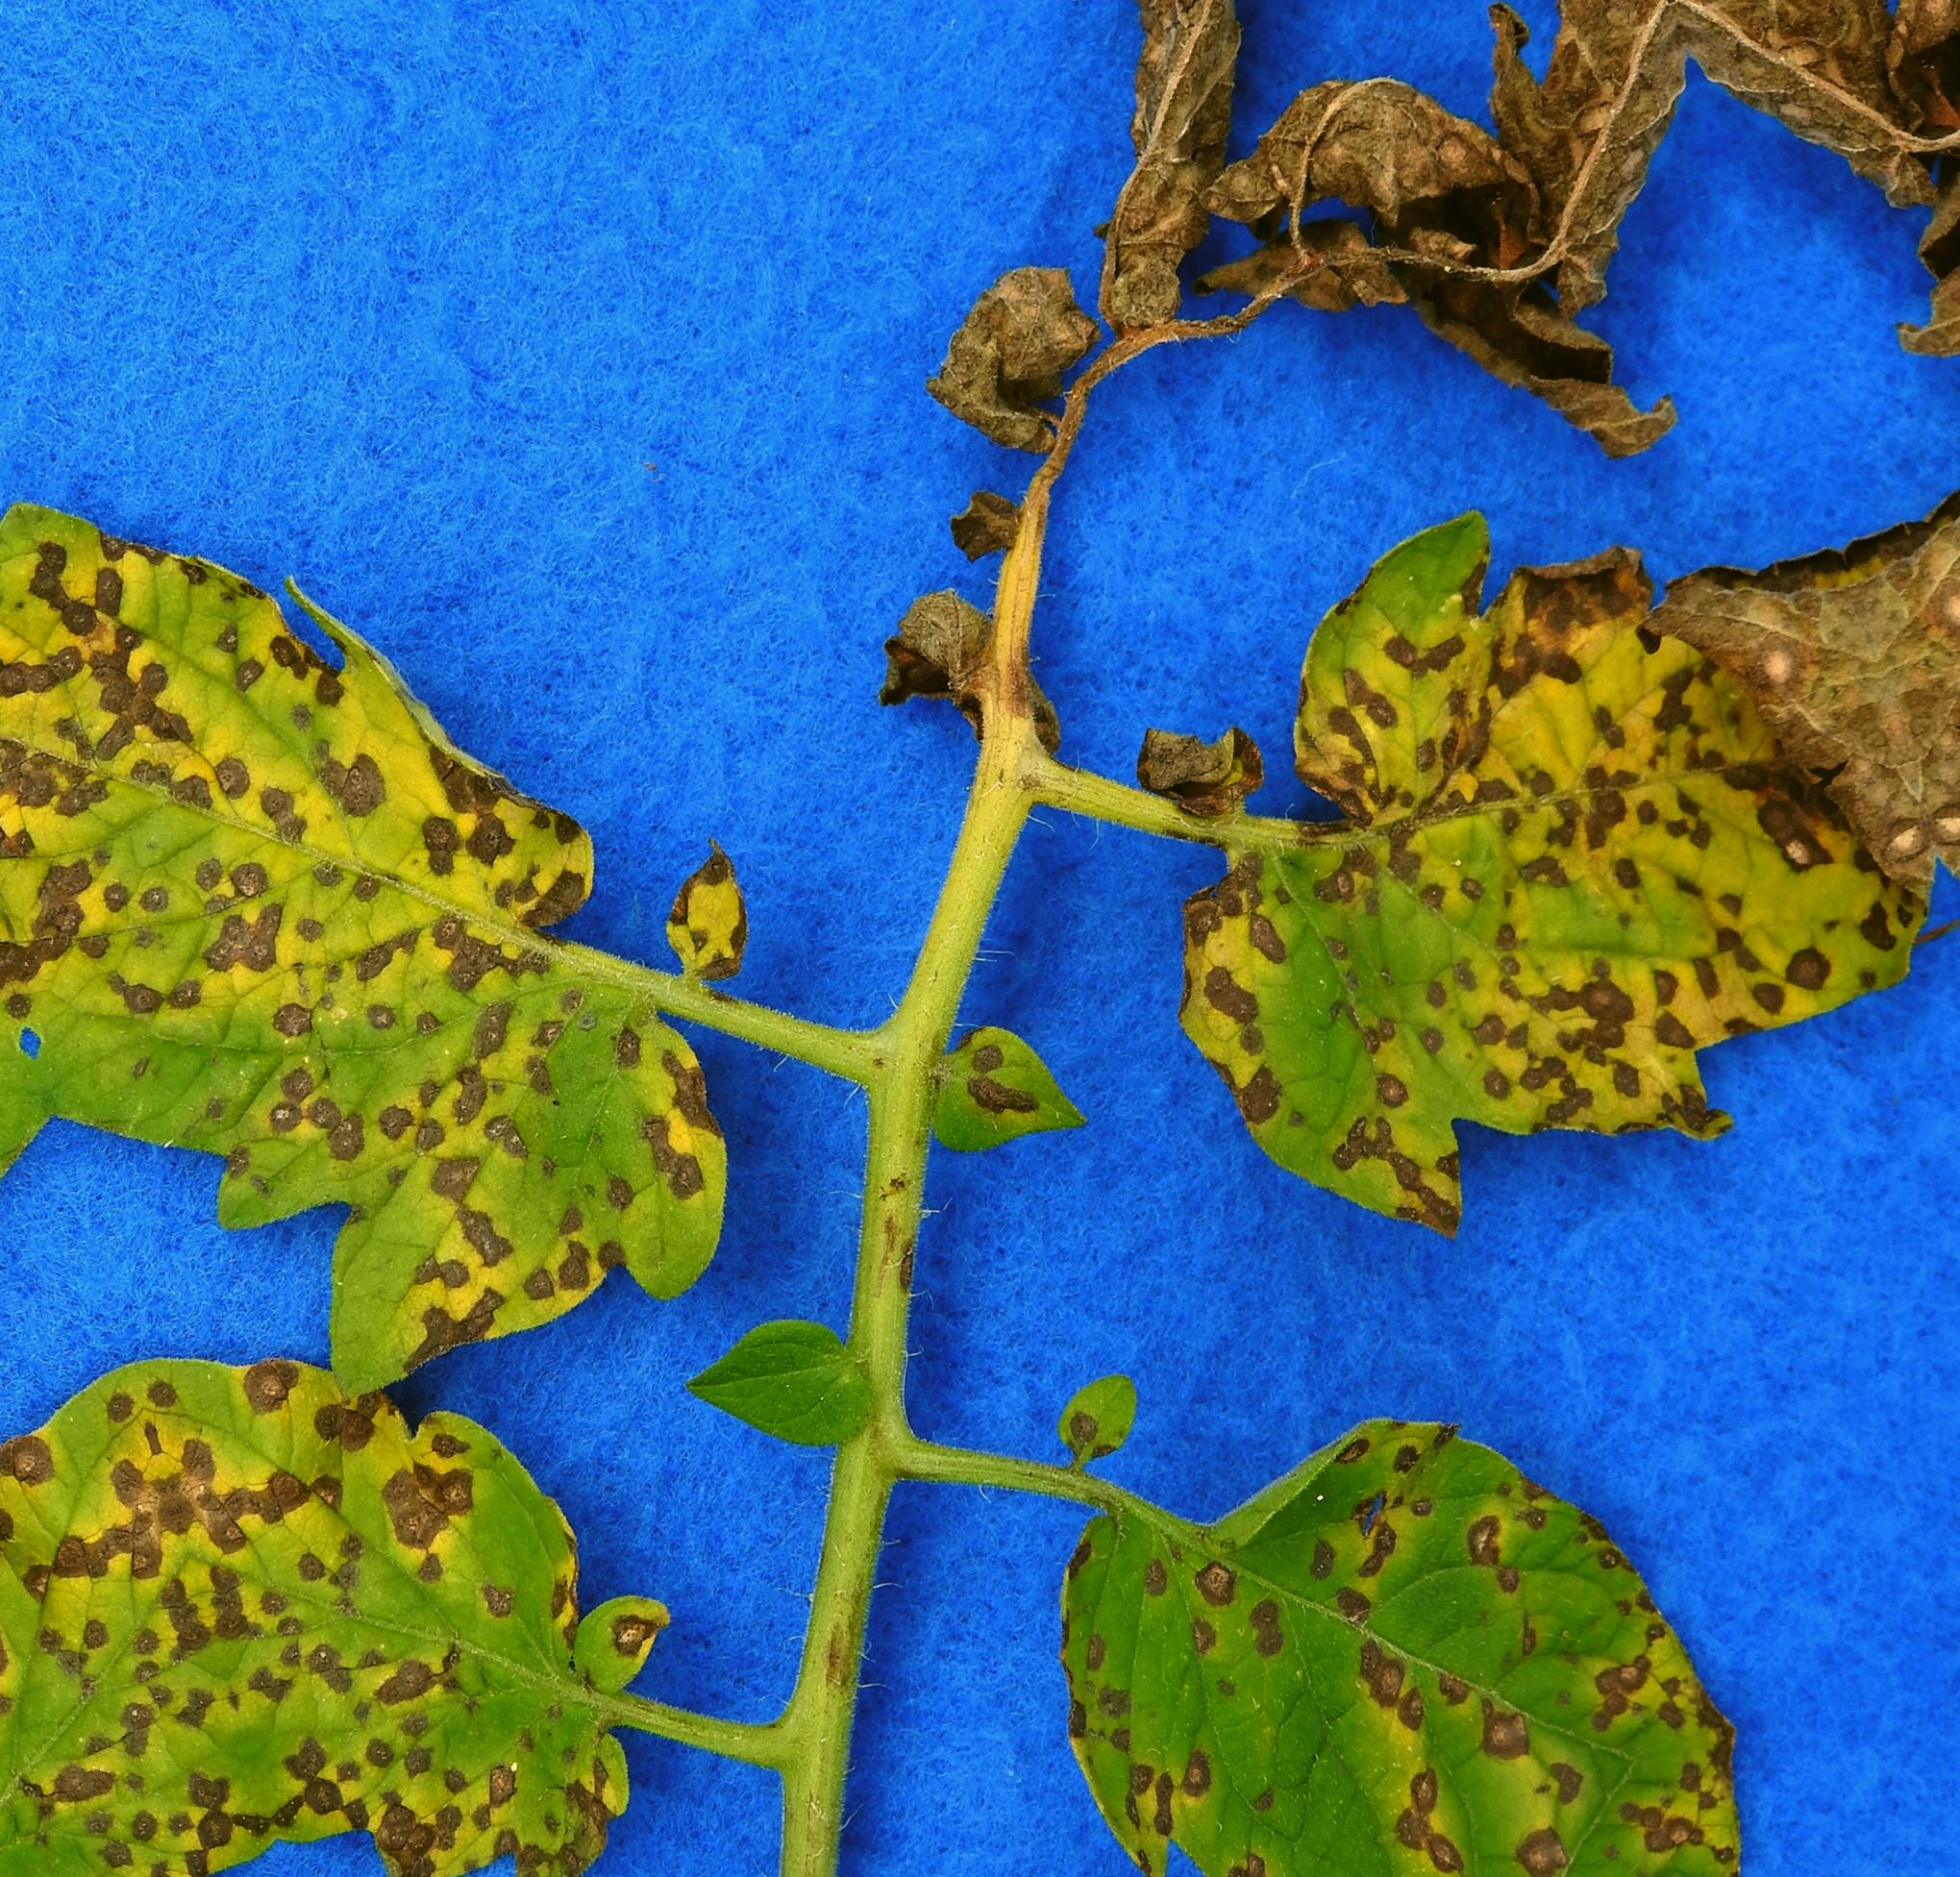Tomato Septoria leaf spot: (0, 170, 819, 1459), (1050, 355, 1960, 1287), (926, 1266, 1855, 1877), (119, 1202, 738, 1877)
